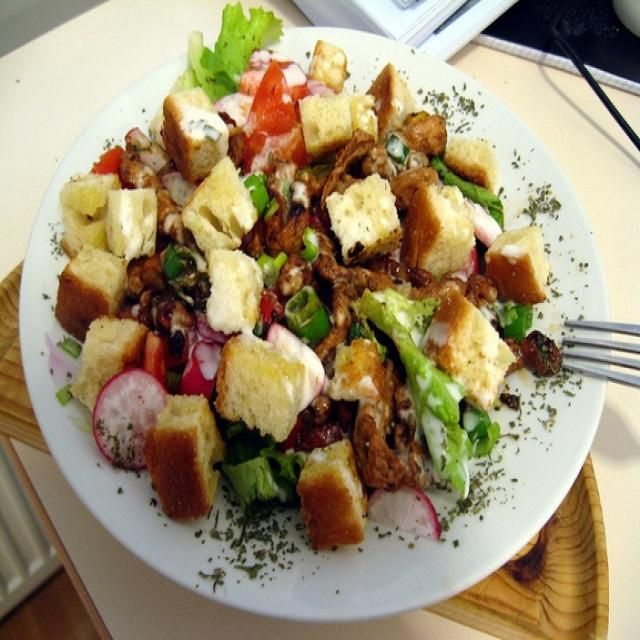鸡肉料理 含炸鸡: (13, 26, 609, 624)
